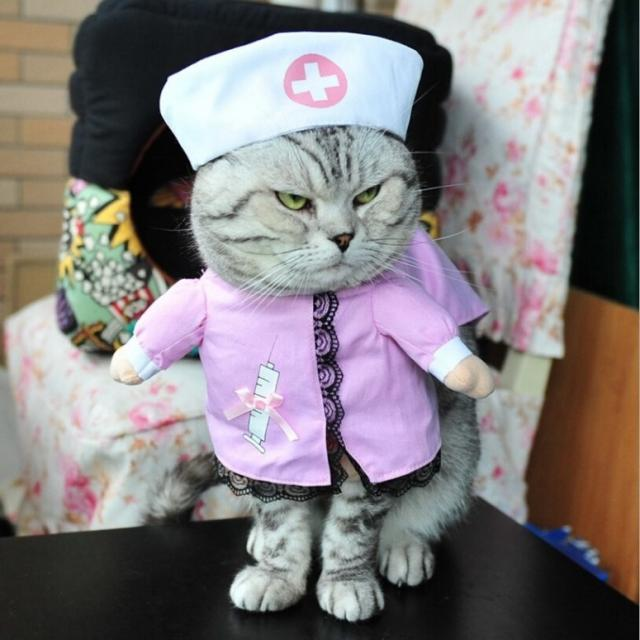cat: (168, 108, 438, 306)
